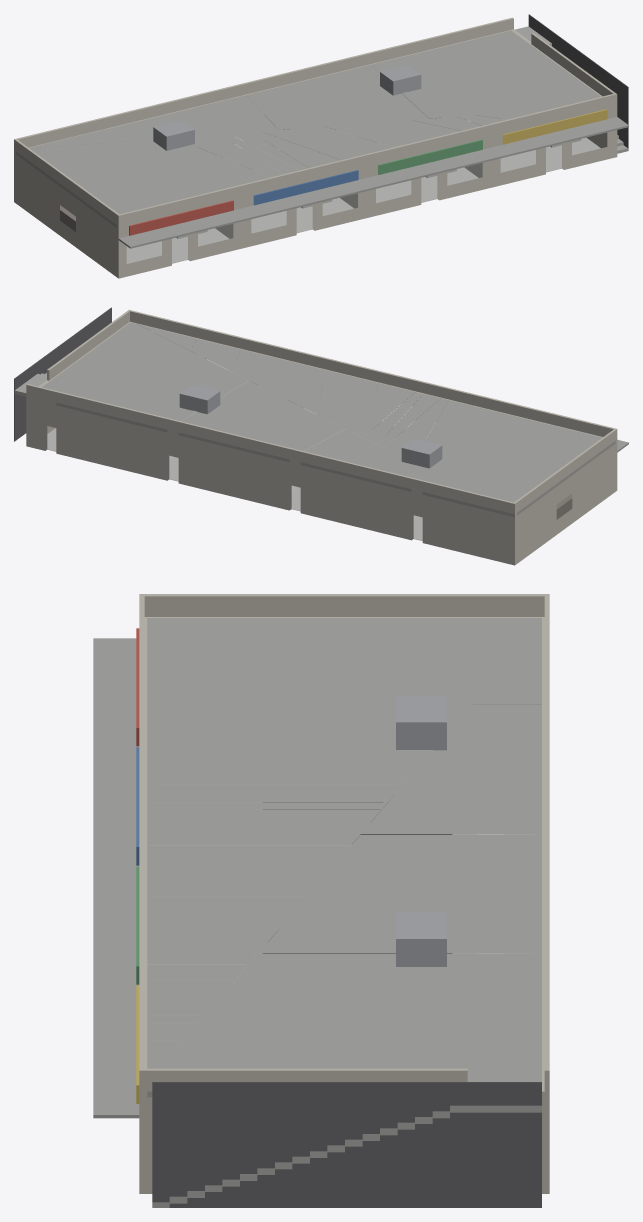
Rendered from strip-mall.reveal-v1.lod0.glb.
3 views of the same model, one above another, from view 1: azimuth 30°, elevation 25°; view 2: azimuth 150°, elevation 25°; view 3: azimuth 270°, elevation 25° (orthographic). The views are drawn at different scales.
Parts seen in each view (by area): view 1: strip-mall; view 2: strip-mall; view 3: strip-mall.
Part boxes in pixels (x1=…): strip-mall: x1=14, y1=14, x2=628, y2=278; strip-mall: x1=14, y1=307, x2=628, y2=565; strip-mall: x1=93, y1=594, x2=549, y2=1207.
Bounding box in the file's own units: 45.3 × 5.62 × 17.8.
